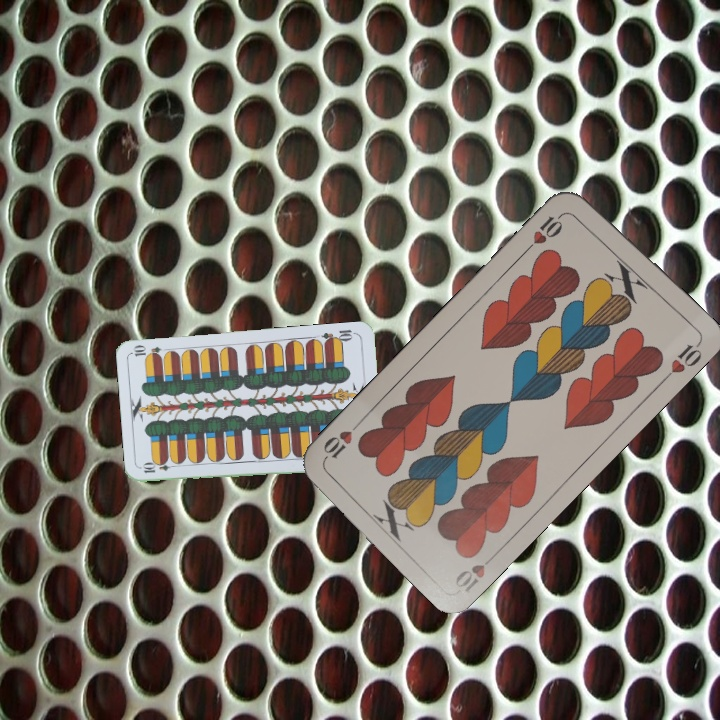E10: (318, 325, 359, 347), (139, 459, 180, 476)
H10: (451, 548, 501, 596), (521, 208, 568, 254)
